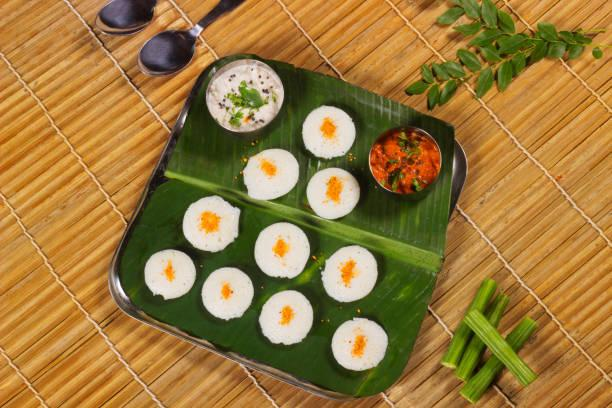coconut chutney: (215, 63, 279, 128)
idli: (149, 237, 390, 350), (186, 150, 358, 243), (300, 102, 354, 152)
